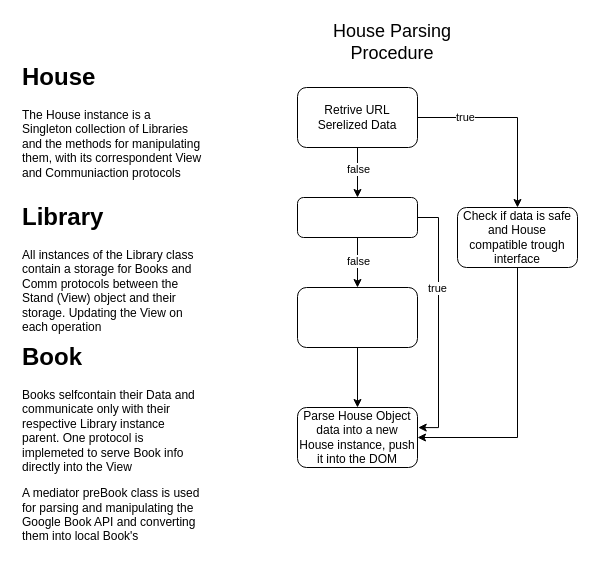
Image size: 595x574. Some labels were removed from this diagram. The box of each missing label's shape, as (x1, y1, x2, y2) in pixels:
Create empty House Object: (296, 286, 418, 348)
Retrive Cached Data: (296, 196, 418, 238)
